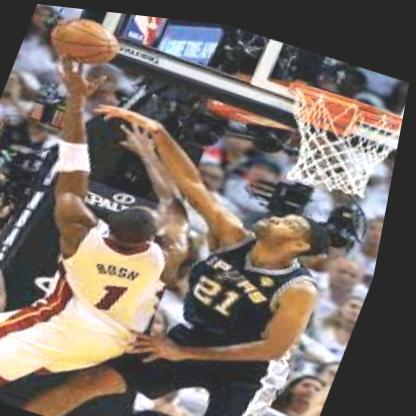basketball: (46, 10, 125, 67)
rim: (263, 71, 409, 195)
